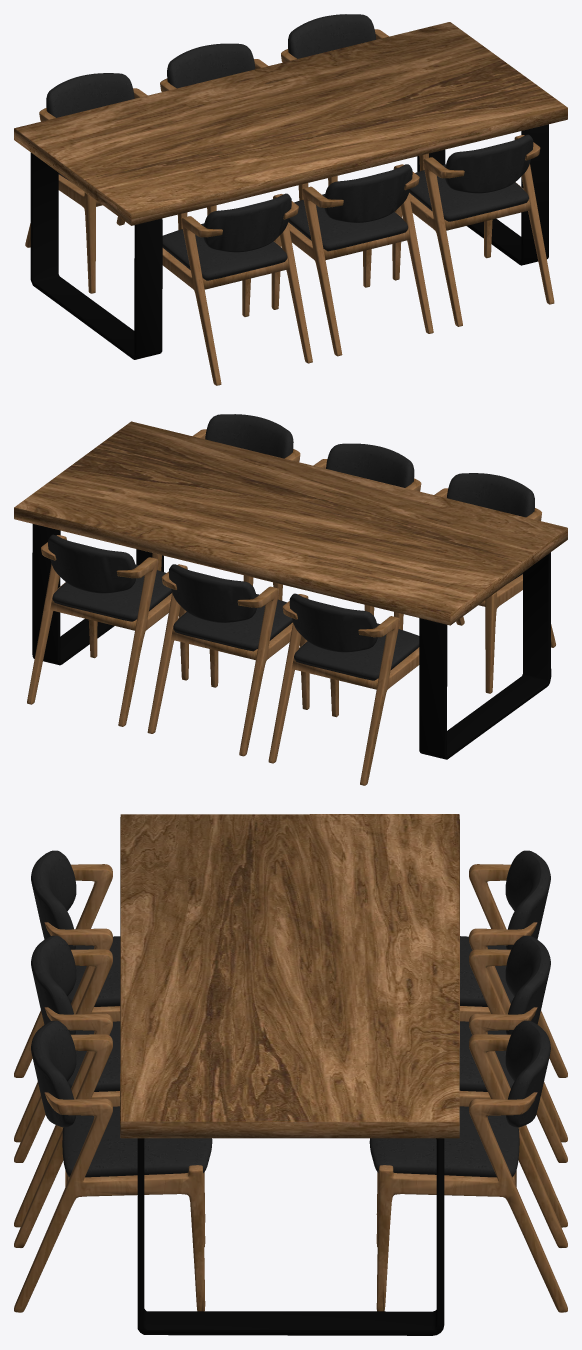
File: dining.glb
3 renders of one model, top to bottom at view 1: azimuth 30°, elevation 25°; view 2: azimuth 150°, elevation 25°; view 3: azimuth 270°, elevation 25°, orthographic. The views are drawn at different scales.
Parts seen in each view (by area): view 1: Table_Table_0, Chair.005_Material.003_0; view 2: Table_Table_0, Chair.005_Material.003_0; view 3: Table_Table_0, Chair.005_Material.003_0.
Part boxes in pixels (bbox=[...]): Table_Table_0: bbox=[14, 22, 567, 359]; Chair.005_Material.003_0: bbox=[25, 14, 554, 385]; Table_Table_0: bbox=[14, 421, 567, 759]; Chair.005_Material.003_0: bbox=[27, 414, 555, 785]; Table_Table_0: bbox=[120, 814, 459, 1335]; Chair.005_Material.003_0: bbox=[14, 850, 567, 1312].
Bounding box in the file's own units: 3.01 × 1.08 × 2.29.
2 materials, 2 textured.
